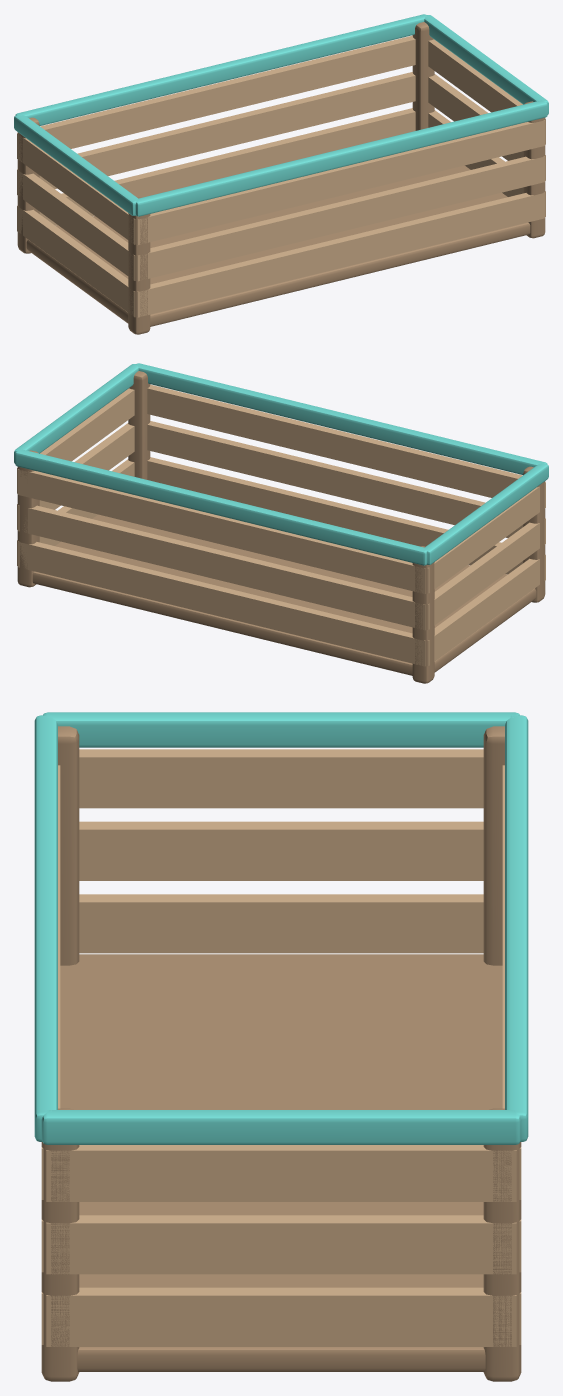
The model's file is ReturnCrate.fbx.
3 views of the same model, one above another, from view 1: azimuth 30°, elevation 25°; view 2: azimuth 150°, elevation 25°; view 3: azimuth 270°, elevation 25° (orthographic). The views are drawn at different scales.
Parts seen in each view (by area): view 1: ReturnCrate; view 2: ReturnCrate; view 3: ReturnCrate.
Boxes of the visible parts, bbox=[...] form: ReturnCrate: bbox=[14, 14, 548, 334]; ReturnCrate: bbox=[14, 363, 548, 683]; ReturnCrate: bbox=[34, 712, 528, 1381].
Bounding box in the file's own units: 2.05 × 0.635 × 1.05.
